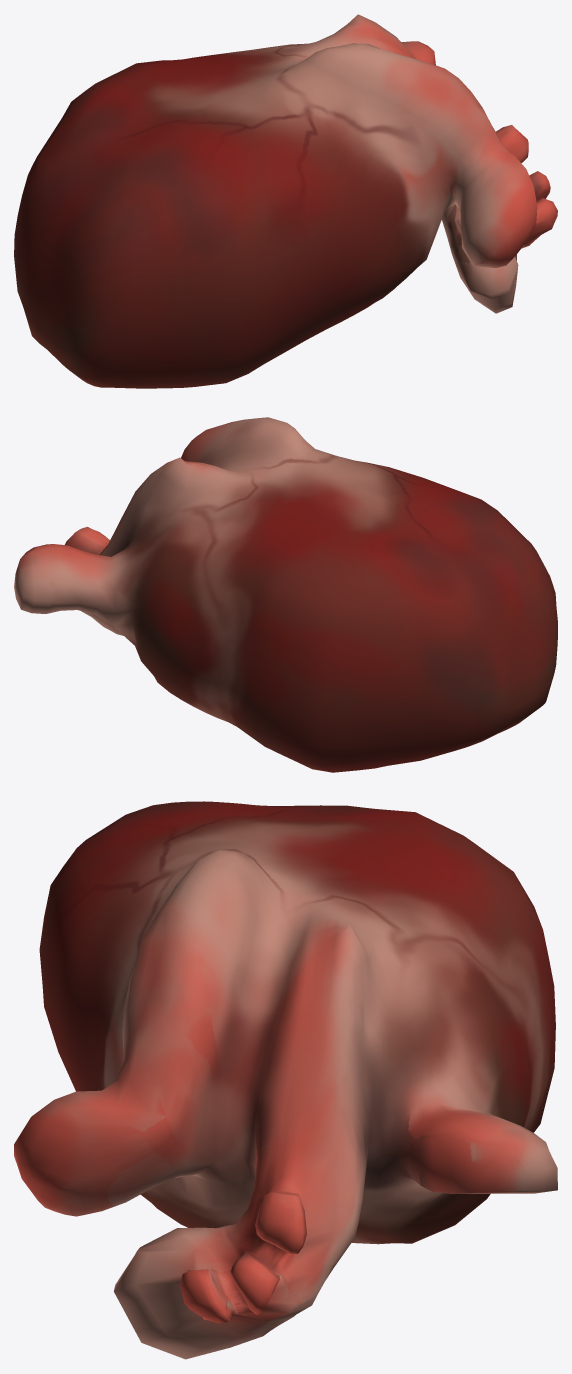
The model's file is heart.fbx.
3 renders of one model, top to bottom at view 1: azimuth 30°, elevation 25°; view 2: azimuth 150°, elevation 25°; view 3: azimuth 270°, elevation 25°, orthographic. The views are drawn at different scales.
Parts seen in each view (by area): view 1: heart; view 2: heart; view 3: heart.
Boxes of the visible parts, x1=… form: heart: x1=14, y1=14, x2=557, y2=388; heart: x1=14, y1=417, x2=557, y2=772; heart: x1=14, y1=801, x2=557, y2=1359.
Bounding box in the file's own units: 0.2129 × 0.1184 × 0.1404.
Materials: 1 (1 with a texture image).
